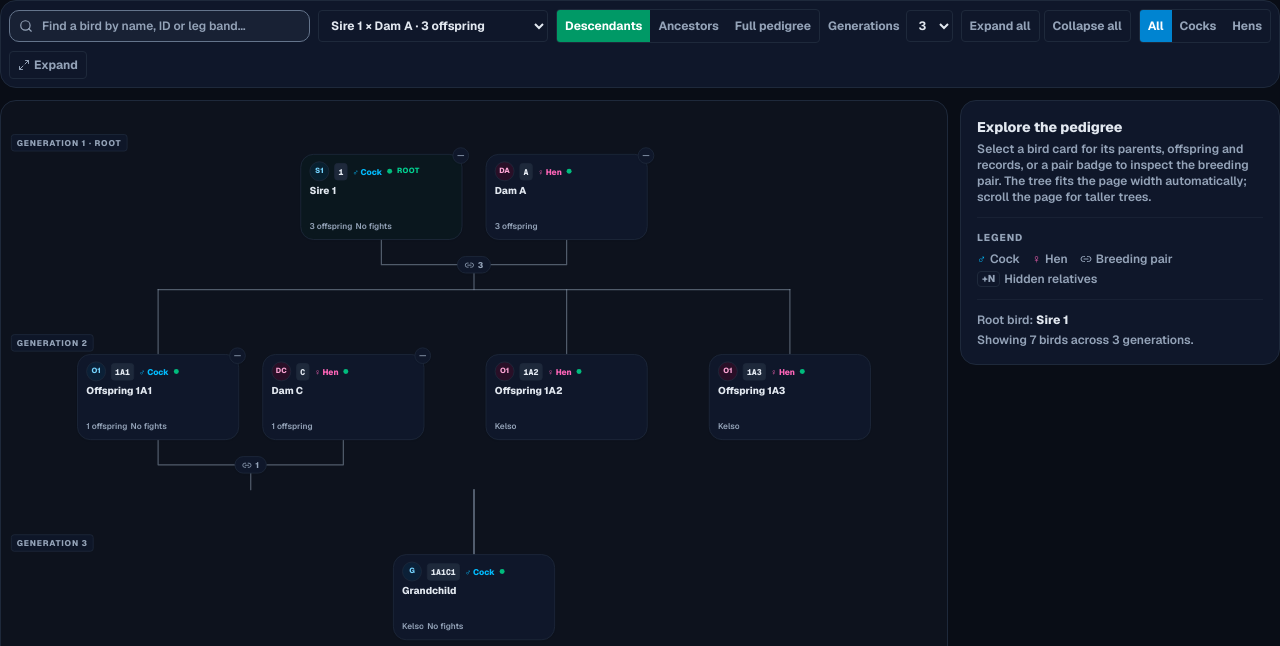
Test case: LineageFlow pedigree canvas › toggles the expanded canvas
Click the button with aria-label "Expand canvas".
click(48, 65)  # box [9, 51, 87, 79]
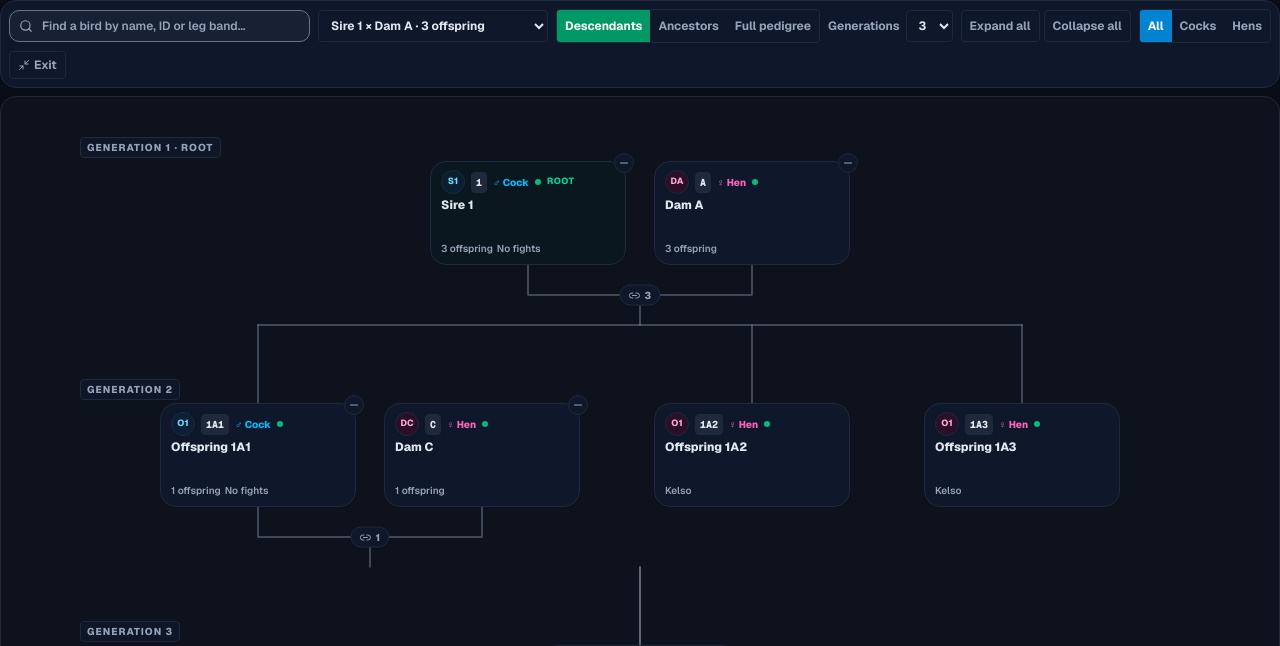
Result: the button with aria-label "Exit expanded canvas" is shown at [9, 51, 66, 79]
Press Escape
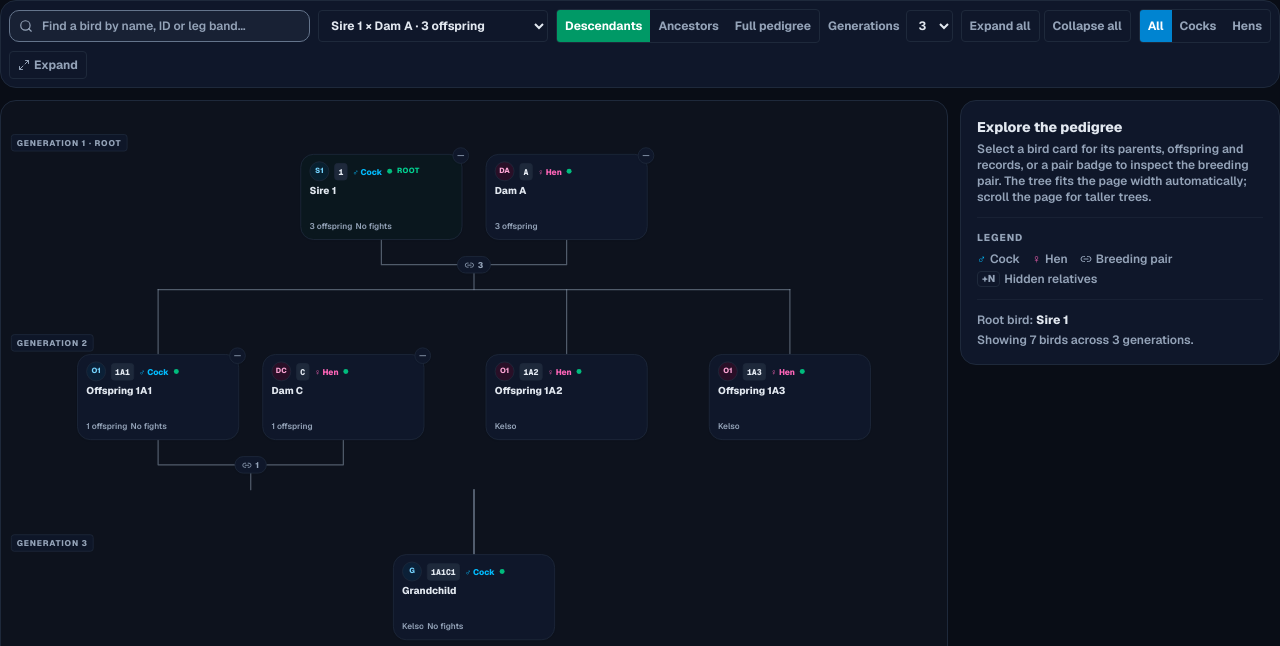
Result: the button with aria-label "Expand canvas" is shown at [9, 51, 87, 79]
